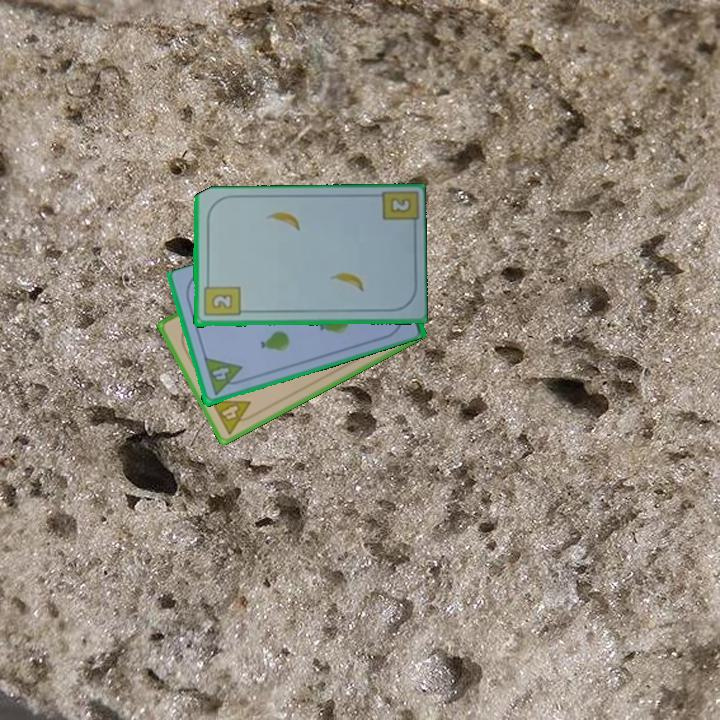2b: (200, 277, 242, 319), (387, 194, 414, 216)
4p: (207, 396, 260, 437), (200, 355, 248, 399)
